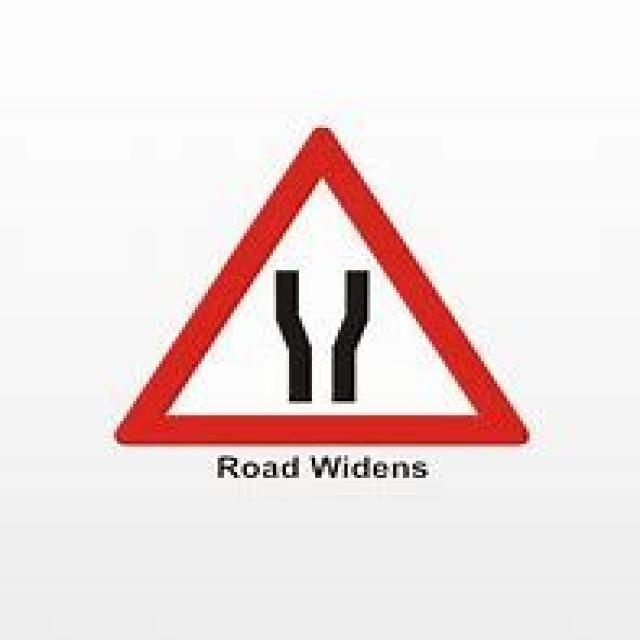road widens ahead: (102, 119, 542, 455)
